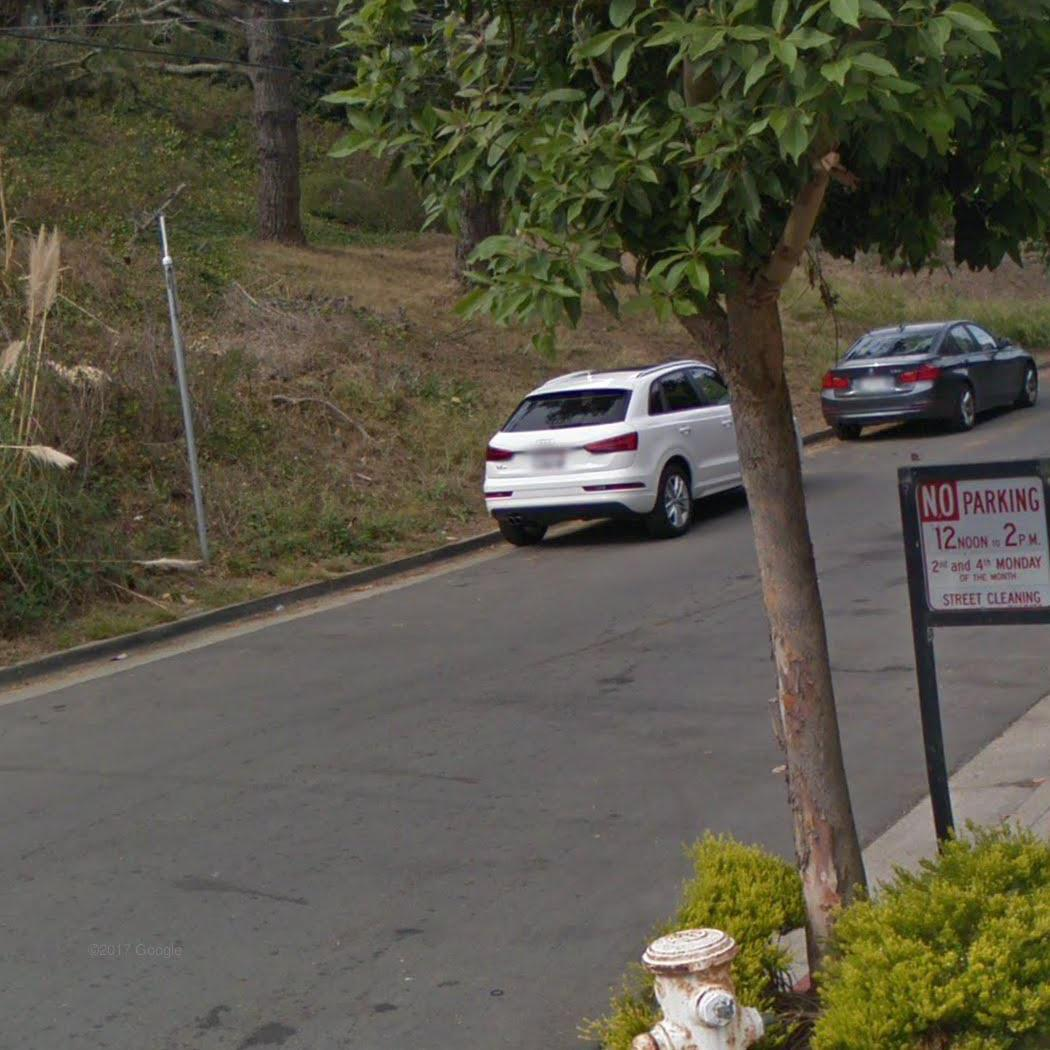No Parking: (908, 471, 1046, 610)
